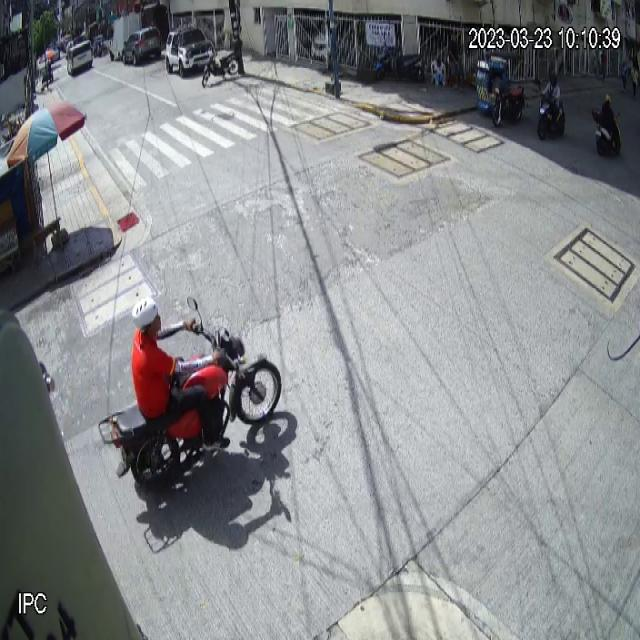Motorcycle: (97, 294, 282, 493)
Tricycle: (476, 52, 526, 128)
